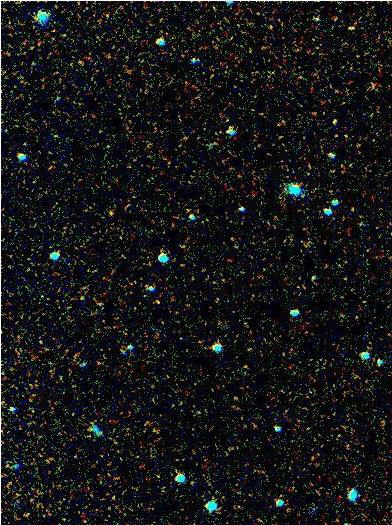star: (141, 283, 171, 313)
